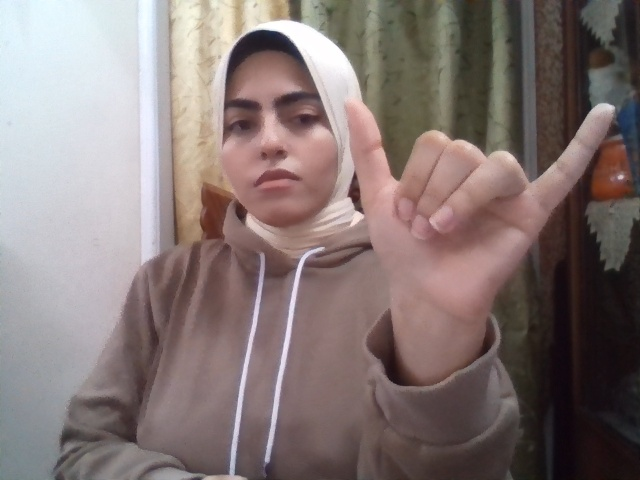Y: (343, 98, 615, 329)
